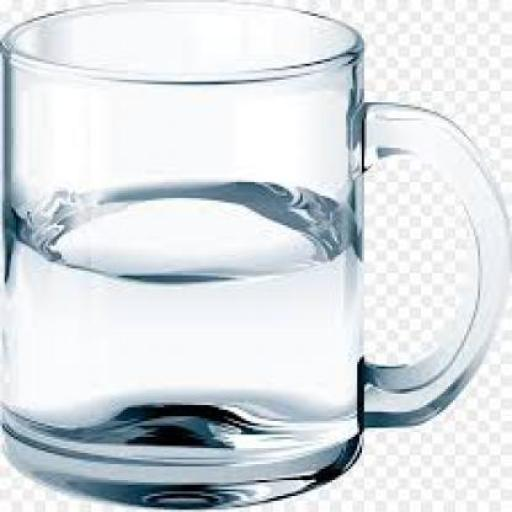glass: (0, 0, 508, 511)
